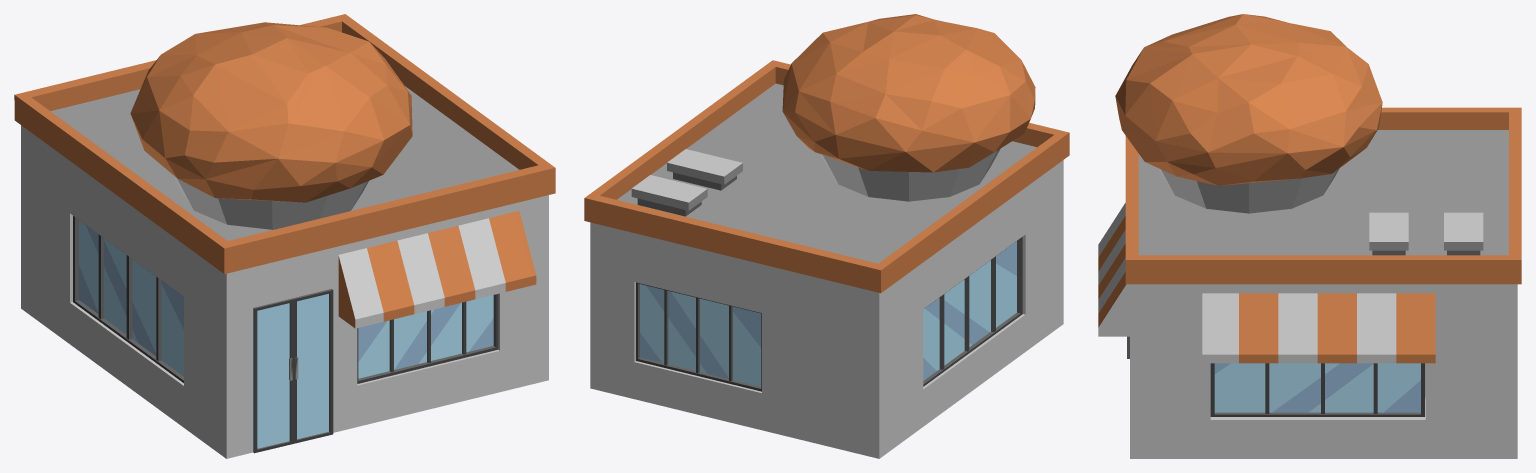
The model's file is cafe_005.glb.
3 views of the same model, side by side, from view 1: azimuth 30°, elevation 25°; view 2: azimuth 150°, elevation 25°; view 3: azimuth 270°, elevation 25° (orthographic). The views are drawn at different scales.
Visible parts, largest first — view 1: cafe_005; view 2: cafe_005; view 3: cafe_005.
Boxes of the visible parts, bbox=[...] form: cafe_005: bbox=[14, 14, 555, 458]; cafe_005: bbox=[584, 14, 1069, 458]; cafe_005: bbox=[1098, 14, 1521, 458].
Bounding box in the file's own units: 5.74 × 5.15 × 6.11.
1 material, 1 textured.
